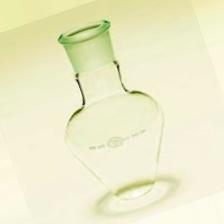Pear shaped flask: (48, 19, 170, 204)
